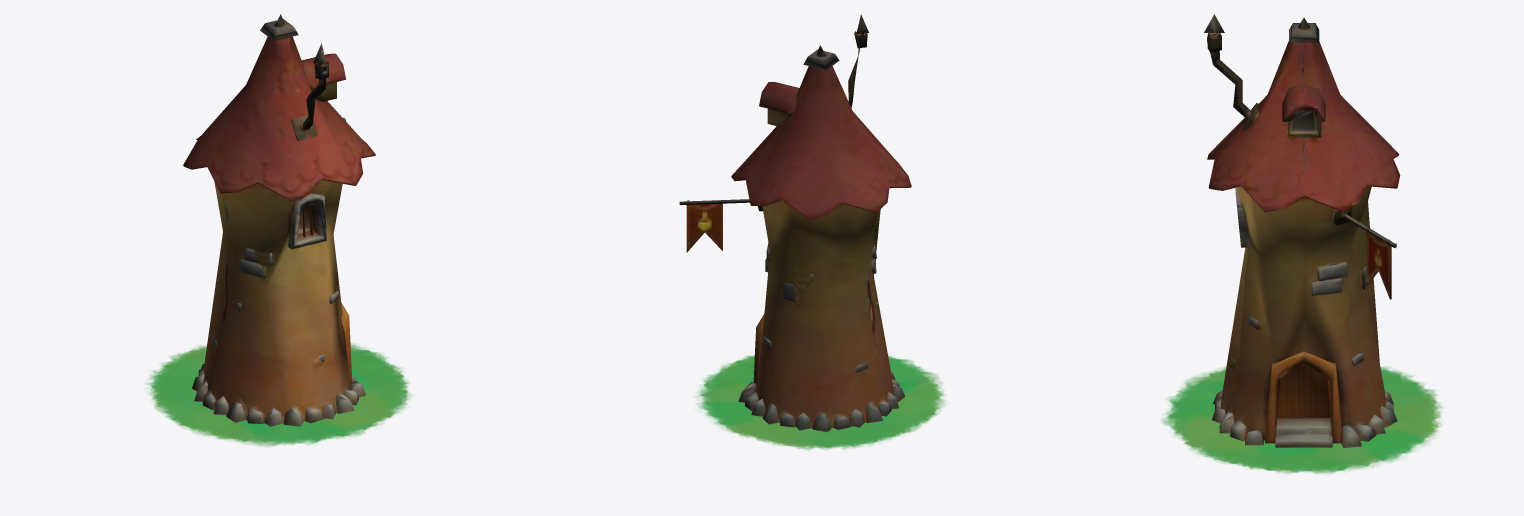
File: PRP_WallTower_lod.glb
The picture shows the model from 3 angles, left to right: view 1: azimuth 30°, elevation 25°; view 2: azimuth 150°, elevation 25°; view 3: azimuth 270°, elevation 25°; orthographic projection. The views are drawn at different scales.
Visible parts, largest first — view 1: defaultMaterial (×2); view 2: defaultMaterial (×2); view 3: defaultMaterial (×2).
Part boxes in pixels (x1=…): defaultMaterial (×2): x1=146, y1=14, x2=411, y2=446; defaultMaterial (×2): x1=679, y1=14, x2=944, y2=450; defaultMaterial (×2): x1=1162, y1=14, x2=1442, y2=474.
Bounding box in the file's own units: 600 × 648 × 600.
2 materials, 2 textured.
